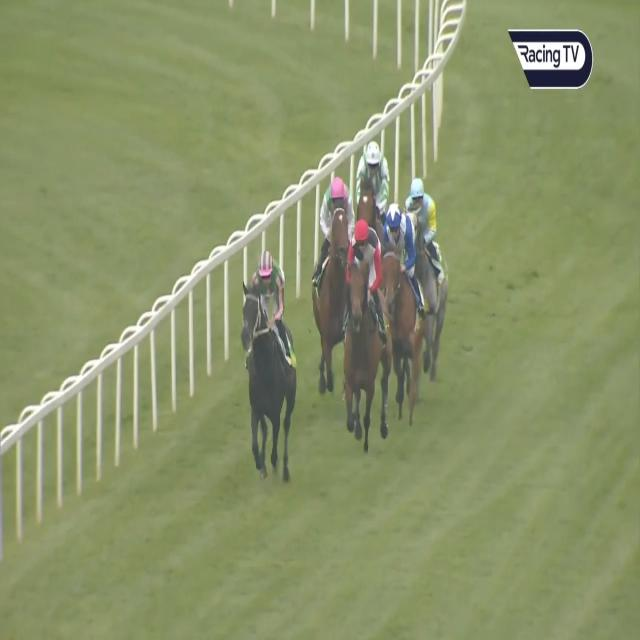horses-racing: (245, 248, 297, 481), (381, 197, 424, 412), (407, 176, 451, 382), (347, 216, 388, 432), (316, 170, 352, 354), (356, 137, 386, 229)
